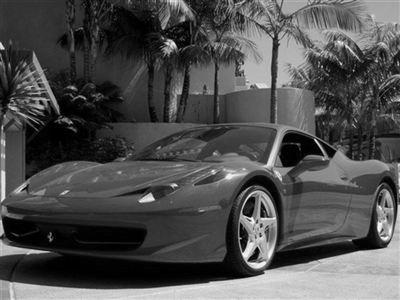car: (2, 121, 400, 277)
